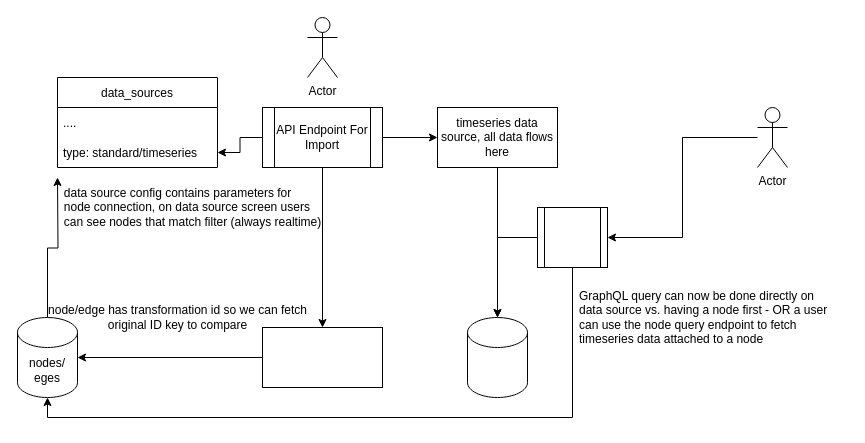
This 865x443 diagram has some shape labels left out. Each missing label, with the centre of its shape:
"GraphQL" belongs at (572,237).
"non-timeseries data, no change to process" belongs at (322,357).
"timescale dynamic table" belongs at (497,357).
